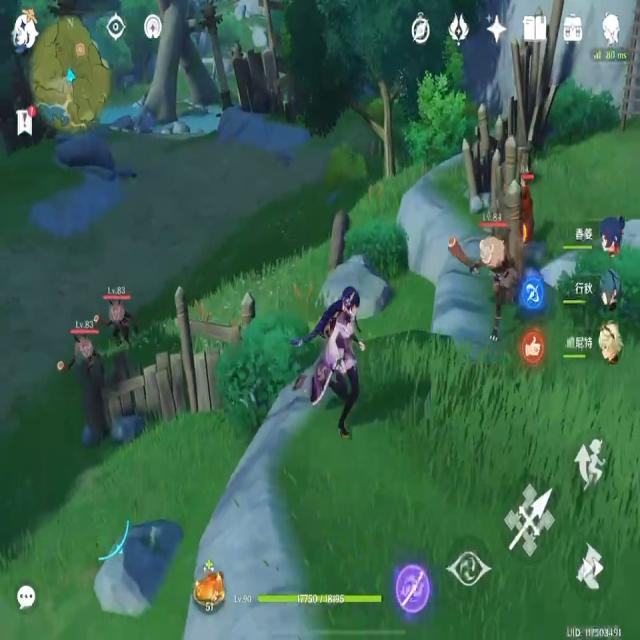genshin-hilichurls: (444, 233, 520, 350), (58, 318, 105, 396), (96, 288, 142, 348)
